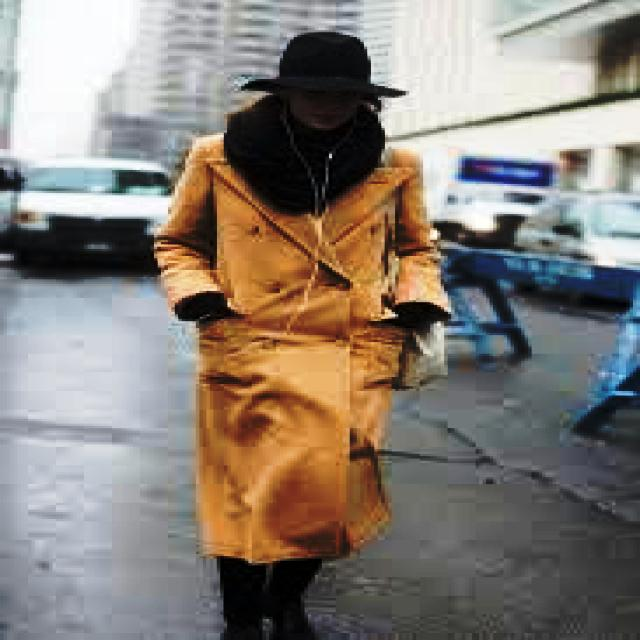TOPI: (234, 23, 406, 100)
